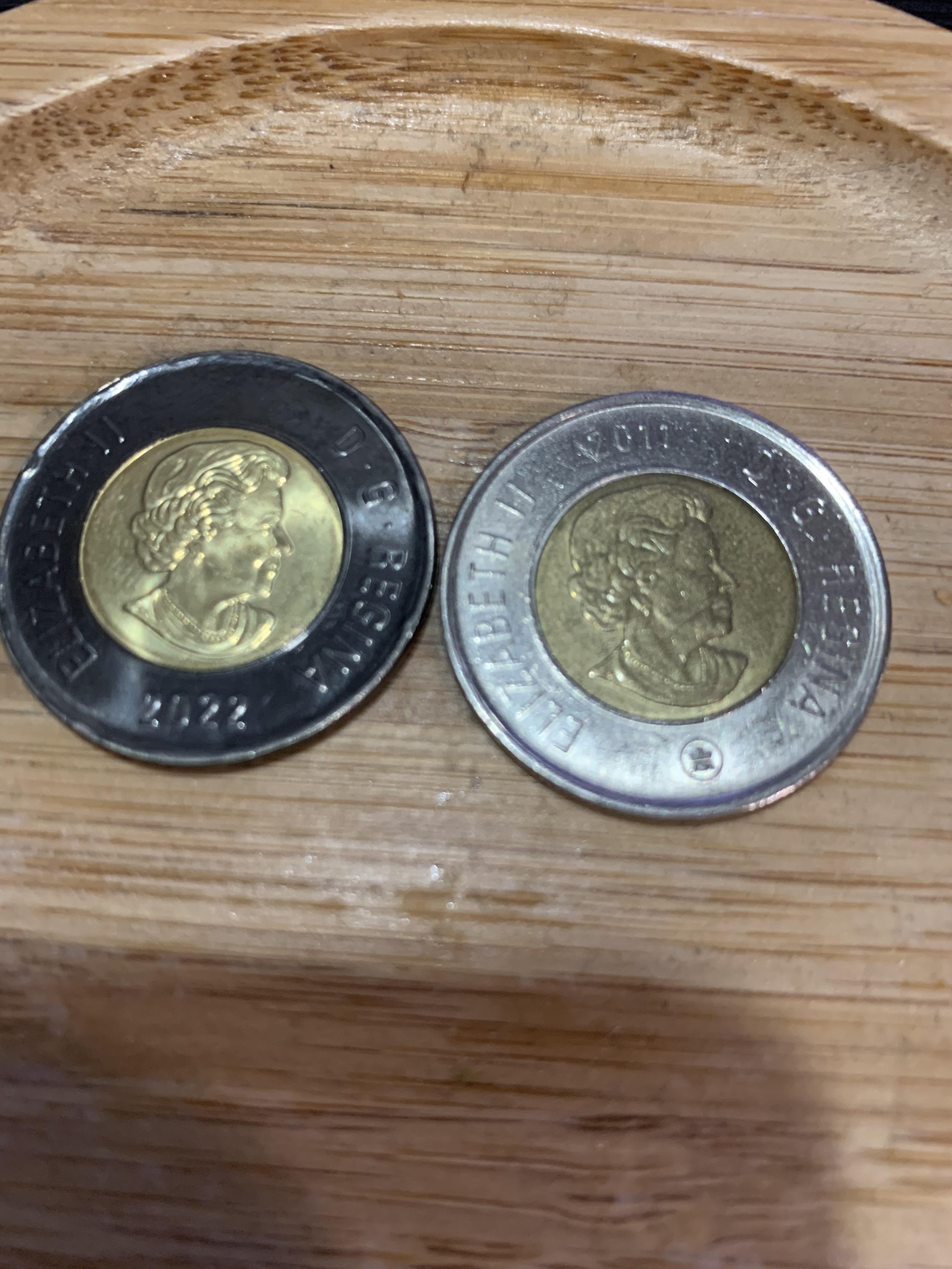coin: (443, 392, 889, 817), (0, 352, 434, 764)
